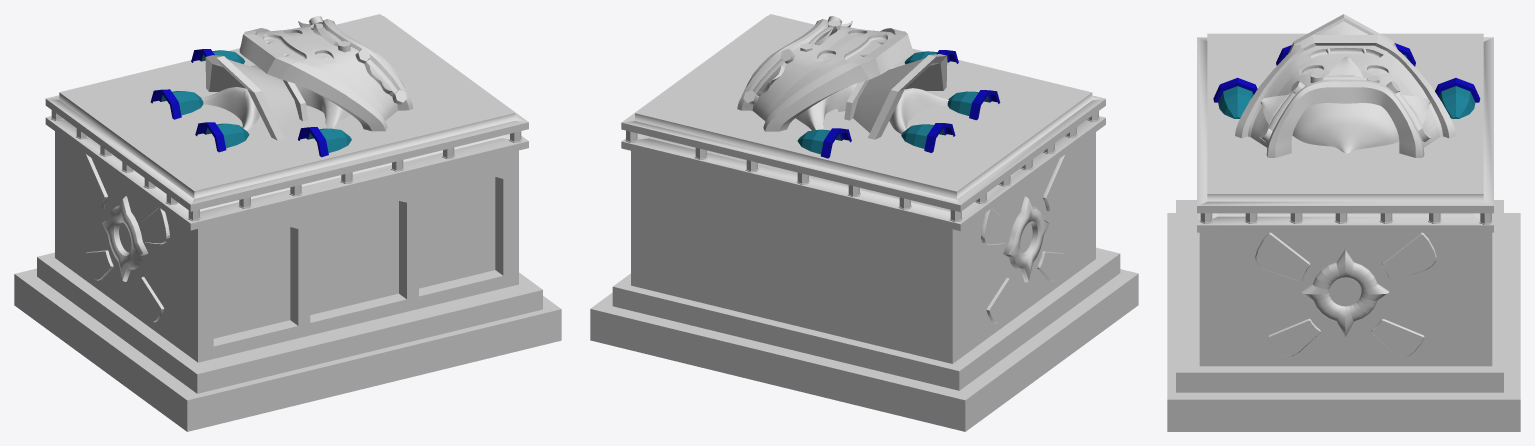
File: chest.fbx
The picture shows the model from 3 angles, left to right: view 1: azimuth 30°, elevation 25°; view 2: azimuth 150°, elevation 25°; view 3: azimuth 270°, elevation 25°; orthographic projection. The views are drawn at different scales.
Visible parts, largest first — view 1: ParteInferior, Tapa, Escalones, 01_cabeza, alas, 01_caderas, Alma, Pelo, 01_Extremidad 013, 01_Extremidad 012, 01_Extremidad 011; view 2: ParteInferior, Tapa, Escalones, 01_cabeza, alas, 01_caderas, Alma, Pelo, 01_Extremidad 008, 01_Extremidad 011, 01_Extremidad 012; view 3: Tapa, Escalones, ParteInferior, 01_cabeza, alas001, Alma, Pelo, 01_Extremidad 008, 01_Extremidad 013, 01_caderas.
Part boxes in pixels (<box>): ParteInferior: <box>55,131,518,362</box>; Tapa: <box>45,14,528,230</box>; Escalones: <box>14,252,561,431</box>; 01_cabeza: <box>239,19,413,131</box>; alas: <box>78,153,169,322</box>; 01_caderas: <box>205,55,308,140</box>; Alma: <box>201,65,350,131</box>; Pelo: <box>298,16,407,104</box>; 01_Extremidad 013: <box>298,127,351,157</box>; 01_Extremidad 012: <box>195,122,249,152</box>; 01_Extremidad 011: <box>150,89,203,119</box>; ParteInferior: <box>631,132,1095,363</box>; Tapa: <box>621,14,1105,230</box>; Escalones: <box>590,247,1138,431</box>; 01_cabeza: <box>737,19,913,131</box>; alas: <box>981,154,1072,323</box>; 01_caderas: <box>844,54,947,139</box>; Alma: <box>796,66,948,133</box>; Pelo: <box>743,16,852,104</box>; 01_Extremidad 008: <box>797,128,851,158</box>; 01_Extremidad 011: <box>901,123,955,152</box>; 01_Extremidad 012: <box>947,90,1000,120</box>; Tapa: <box>1197,33,1493,232</box>; Escalones: <box>1167,200,1520,431</box>; ParteInferior: <box>1199,232,1492,366</box>; 01_cabeza: <box>1235,35,1455,157</box>; alas001: <box>1255,232,1436,356</box>; Alma: <box>1292,103,1399,153</box>; Pelo: <box>1259,56,1431,141</box>; 01_Extremidad 008: <box>1435,78,1480,118</box>; 01_Extremidad 013: <box>1213,77,1257,118</box>; 01_caderas: <box>1287,14,1397,54</box>.
Size of the model in its own units: 216 by 160 by 173.
